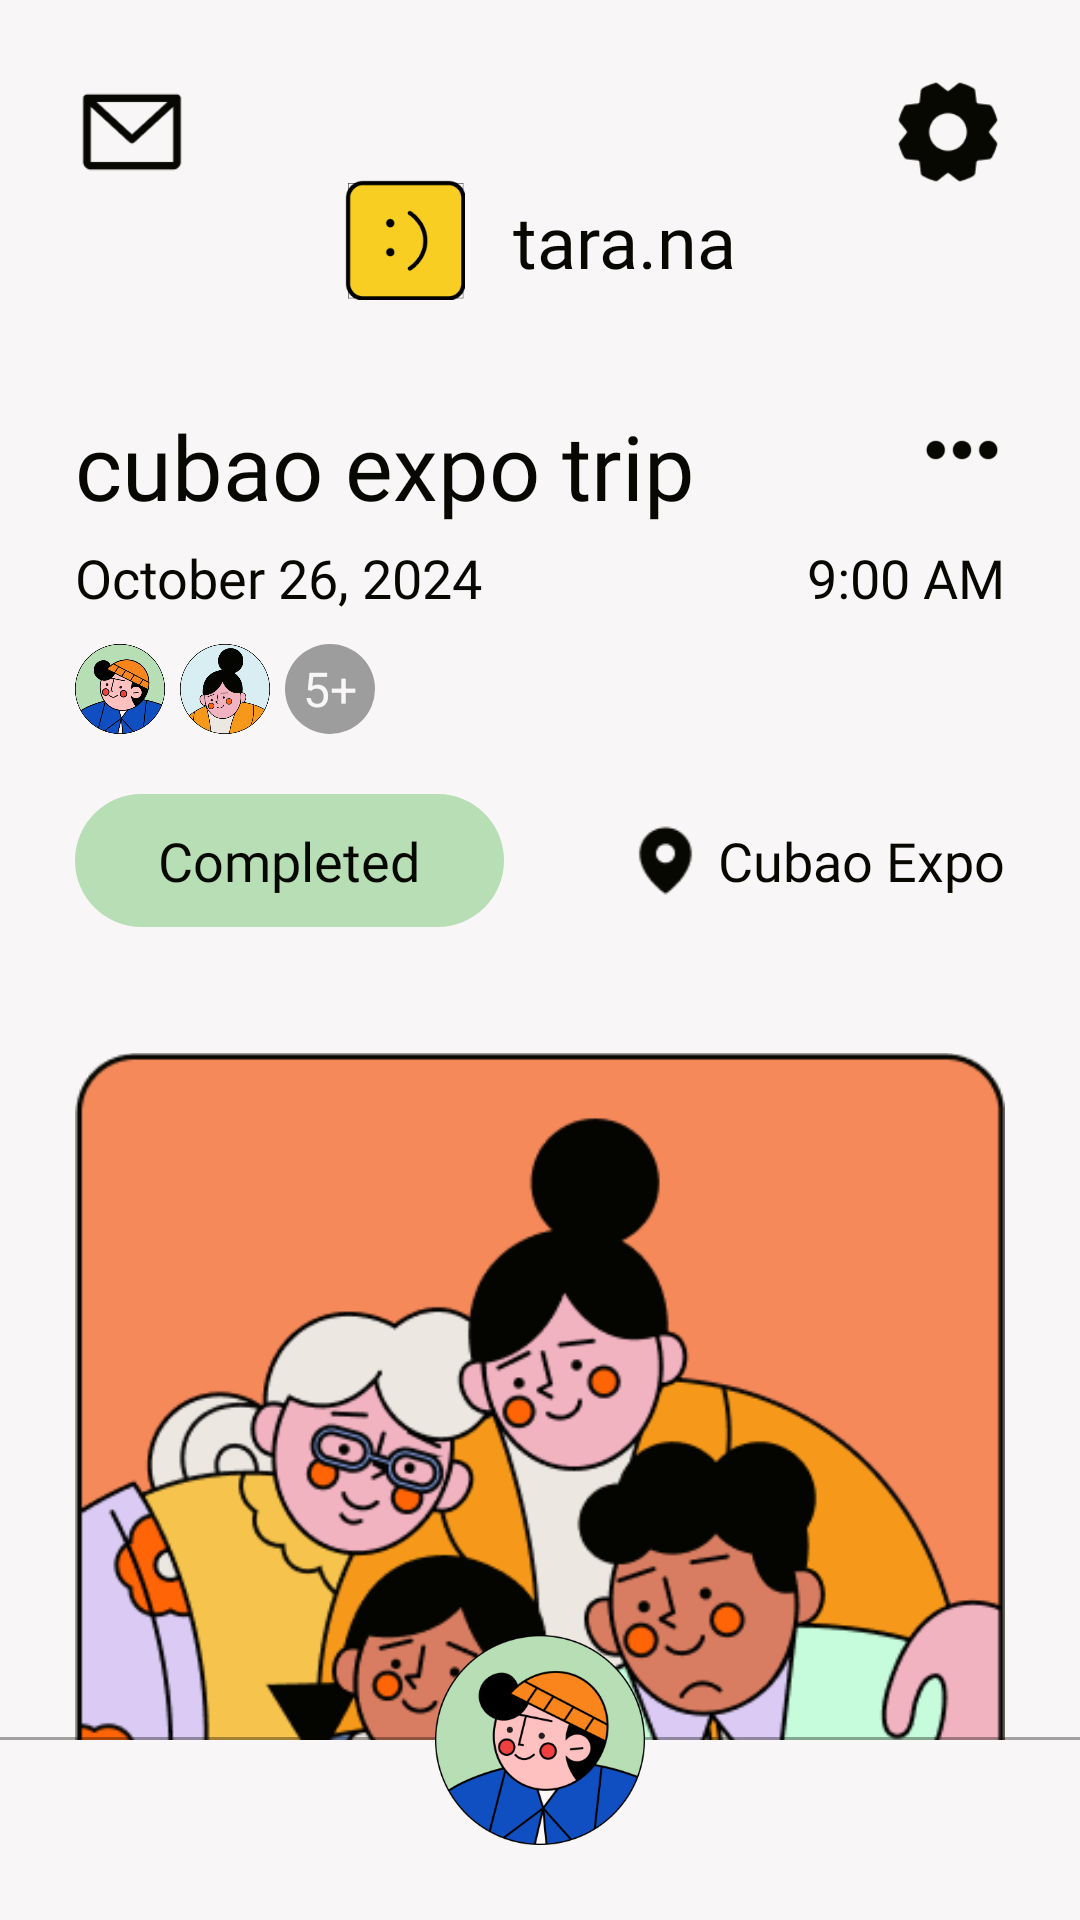

Icons on this 1080 x 1920 Android screen, each with the point to tap as (x=x, y=y):
inbox: (x=132, y=132)
location: (x=665, y=860)
options: (x=962, y=450)
profile: (x=120, y=689), (x=225, y=689), (x=540, y=1740)
settings: (x=948, y=132)
